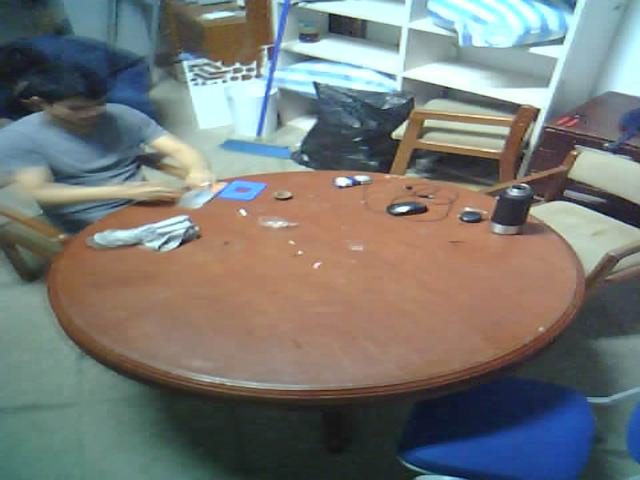person: (0, 70, 238, 231), (0, 25, 184, 127)
